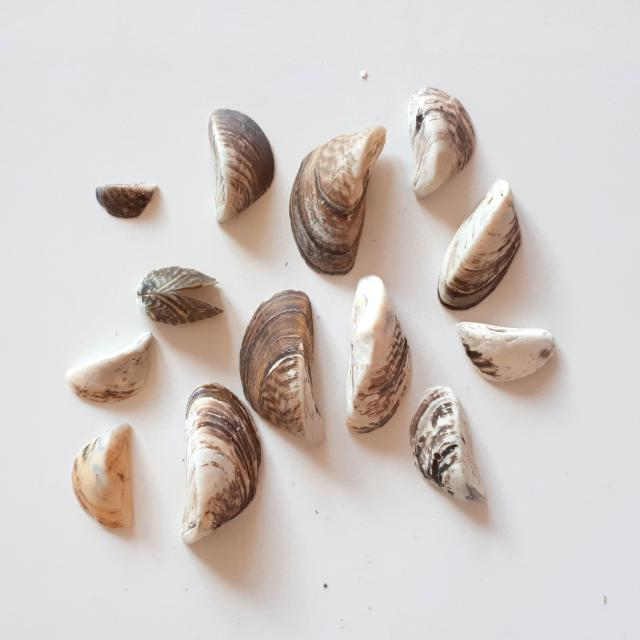Dreissena_polymorpha: (241, 288, 333, 448), (293, 124, 382, 274), (179, 383, 260, 541), (438, 180, 521, 309), (346, 274, 411, 432), (409, 383, 488, 506), (63, 419, 146, 533), (201, 108, 276, 227), (408, 85, 474, 200), (451, 316, 556, 385), (68, 327, 157, 406), (140, 265, 229, 334), (92, 181, 158, 223)
